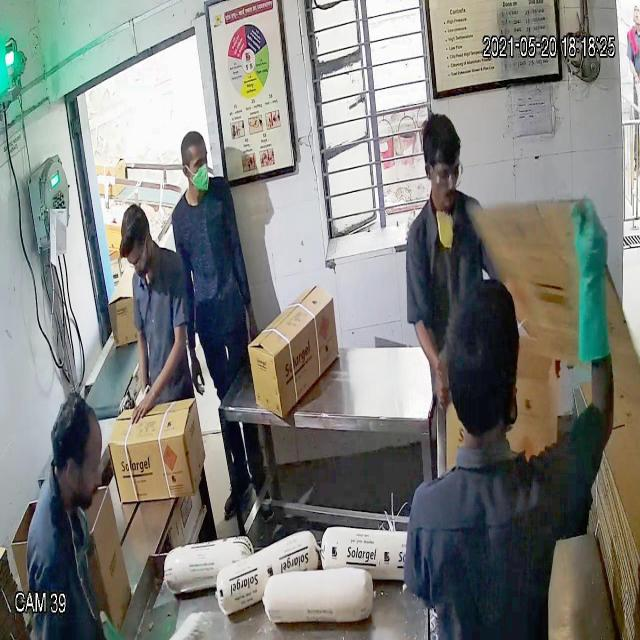glasses: (423, 155, 466, 193)
no-glass: (124, 246, 152, 276), (182, 153, 214, 178)
